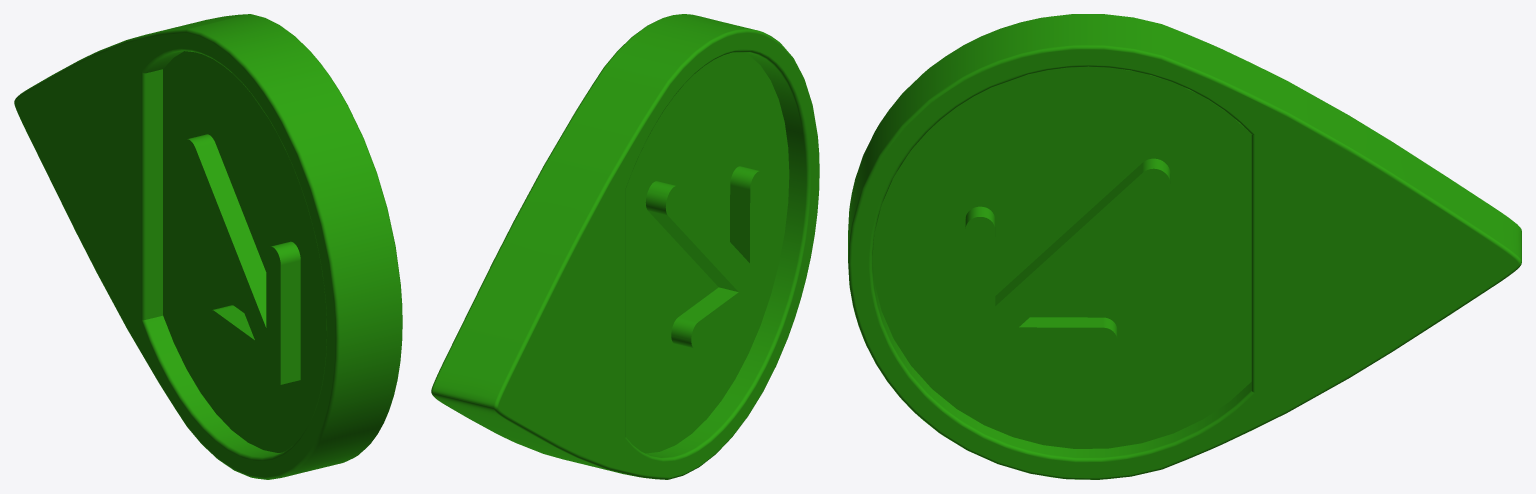
The model's file is ICONO 11.fbx.
3 renders of one model, left to right at view 1: azimuth 30°, elevation 25°; view 2: azimuth 150°, elevation 25°; view 3: azimuth 270°, elevation 25°, orthographic. The views are drawn at different scales.
Parts seen in each view (by area): view 1: Body19; view 2: Body19; view 3: Body19.
Boxes of the visible parts, x1=… form: Body19: x1=14, y1=14, x2=402, y2=479; Body19: x1=431, y1=14, x2=819, y2=479; Body19: x1=848, y1=14, x2=1521, y2=479.
Size of the model in its own units: 112 by 675 by 947.
